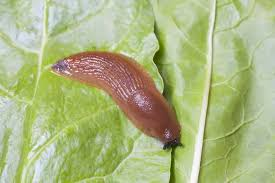slug: (49, 46, 184, 148)
